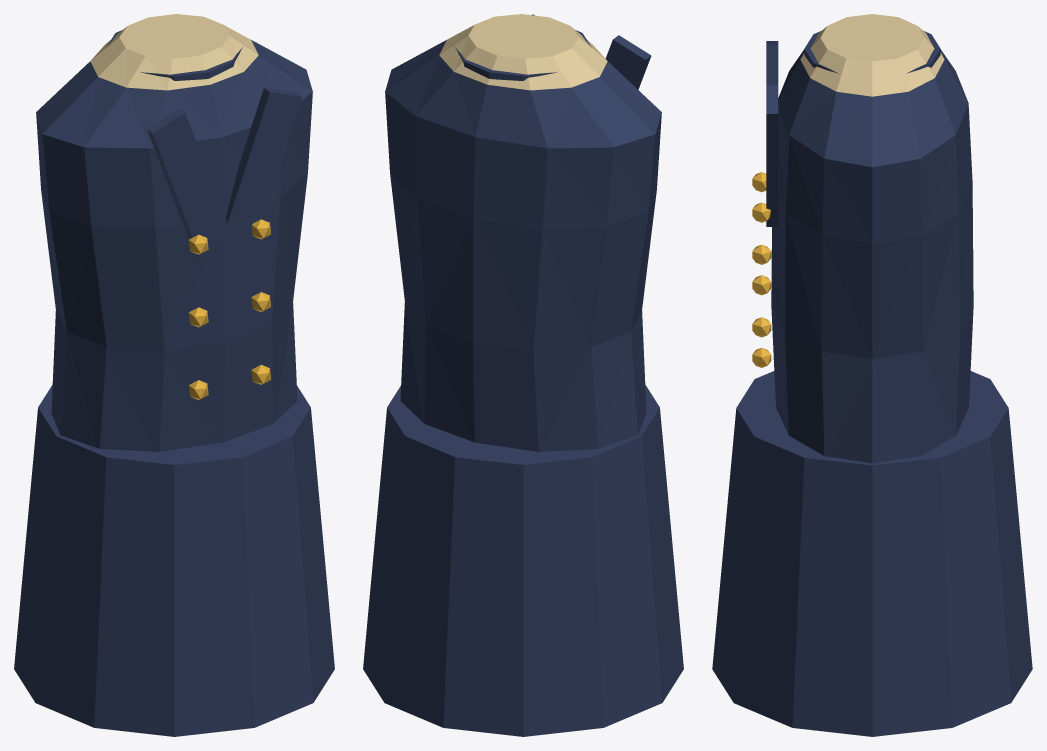
File: PersonLighthouseBody.obj
The picture shows the model from 3 angles, left to right: view 1: azimuth 30°, elevation 25°; view 2: azimuth 150°, elevation 25°; view 3: azimuth 270°, elevation 25°; orthographic projection.
Parts seen in each view (by area): view 1: PersonLighthouseBody; view 2: PersonLighthouseBody; view 3: PersonLighthouseBody.
Part boxes in pixels (x1=…): PersonLighthouseBody: x1=14, y1=14, x2=334, y2=736; PersonLighthouseBody: x1=363, y1=14, x2=683, y2=736; PersonLighthouseBody: x1=712, y1=14, x2=1032, y2=736.
Size of the model in its own units: 0.4 by 0.87 by 0.4.
